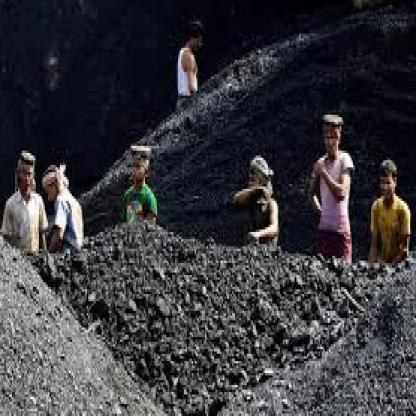Sedimentary_coal: (280, 315, 308, 346), (154, 297, 172, 316), (289, 266, 305, 284), (170, 356, 186, 373), (150, 261, 167, 277), (178, 373, 192, 390)
